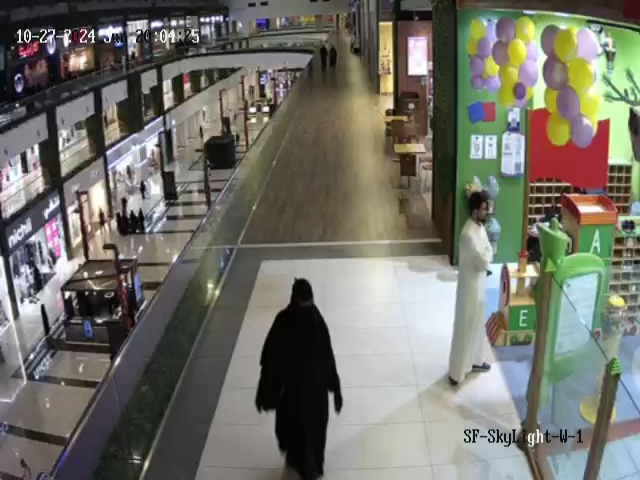female: (254, 277, 344, 480), (32, 300, 60, 347), (112, 205, 128, 232), (135, 204, 150, 232), (126, 209, 141, 232), (330, 33, 338, 71), (318, 42, 327, 75)
male: (448, 190, 495, 387), (97, 207, 107, 236)
